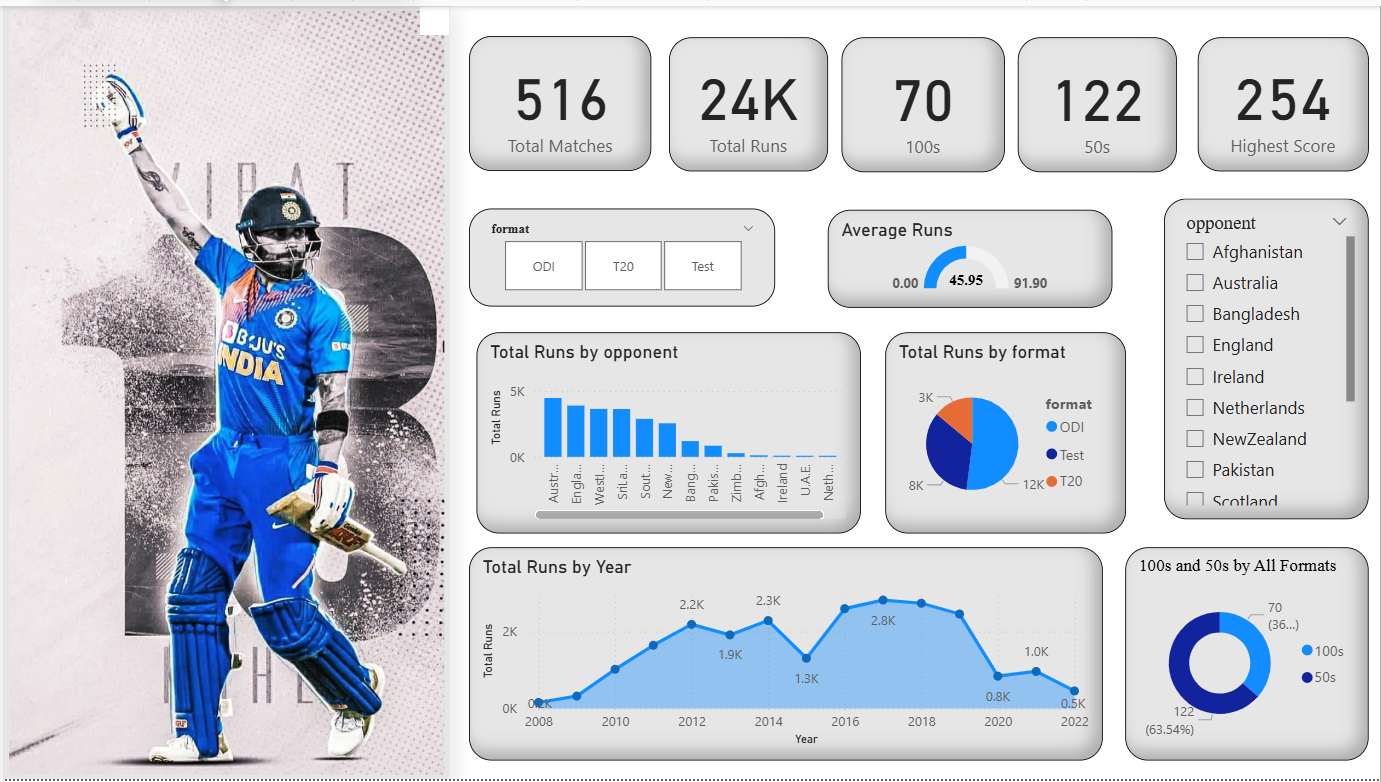

The dashboard page shown, as its layout file describes it:
{"tool":"powerbi","page":{"name":"Page 1","canvas":[1280,720],"ordinal":0},"visuals":[{"type":"card","fields":{"Values":["Source.100s"]},"box":[778.9,29.3,151.6,126],"z":0},{"type":"card","fields":{"Values":["Source.50s"]},"box":[942.8,29.3,148,126],"z":1000},{"type":"card","fields":{"Values":["Source.Total Matches"]},"box":[432.9,28.1,170,126],"z":2000},{"type":"card","fields":{"Values":["Source.Total Runs"]},"box":[618.8,29.3,148,124.7],"z":3000},{"type":"card","fields":{"Values":["Source.Highest Score"]},"box":[1110.3,29.3,159,124.7],"z":4000},{"type":"textbox","title":"Virat Kholi","box":[105.2,66,275.1,64.8],"z":5000},{"type":"areaChart","fields":{"Category":["Source.date.Variation.Date Hierarchy.Year"],"Y":["Source.Total Runs"]},"box":[432.9,503.8,589.4,198.1],"z":6000},{"type":"donutChart","title":"100s and 50s by All Formats","fields":{"Y":["Source.100s","Source.50s"]},"box":[1043.1,503.8,226.2,198.1],"z":7000},{"type":"clusteredColumnChart","fields":{"Category":["Source.opponent"],"Y":["Source.Total Runs"]},"box":[439.6,303.2,357.3,187.1],"z":8000},{"type":"gauge","fields":{"Y":["Source.Average Runs"]},"box":[766.4,189.4,264.9,91.3],"z":9000},{"type":"slicer","fields":{"Values":["Source.opponent"]},"box":[1078.7,179.2,190.5,298.7],"z":10000},{"type":"pieChart","fields":{"Category":["Source.match"],"Y":["Source.Total Runs"]},"box":[819.4,303.2,224.3,187.1],"z":12000},{"type":"slicer","fields":{"Values":["Source.match"]},"box":[432.8,188.2,285.2,91.3],"z":13000},{"type":"image","box":[0,0,414.5,720.2],"z":14000}]}

Visuals, with their boxes in screenshot pixels (x1, y1, x2, y2), scaled from the page's 1280x720 canvas onto the 1381x782 screenshot:
card - Source.100s: 840, 32, 1004, 169
card - Source.50s: 1017, 32, 1177, 169
card - Source.Total Matches: 467, 31, 650, 167
card - Source.Total Runs: 668, 32, 827, 167
card - Source.Highest Score: 1198, 32, 1369, 167
"Virat Kholi" textbox: 114, 72, 410, 142
areaChart - Source.date.Variation.Date Hierarchy.Year x Source.Total Runs: 467, 547, 1103, 762
"100s and 50s by All Formats" donutChart: 1125, 547, 1369, 762
clusteredColumnChart - Source.opponent x Source.Total Runs: 474, 329, 860, 533
gauge - Source.Average Runs: 827, 206, 1113, 305
slicer - Source.opponent: 1164, 195, 1369, 519
pieChart - Source.match x Source.Total Runs: 884, 329, 1126, 533
slicer - Source.match: 467, 204, 775, 304
image: 0, 0, 447, 781
